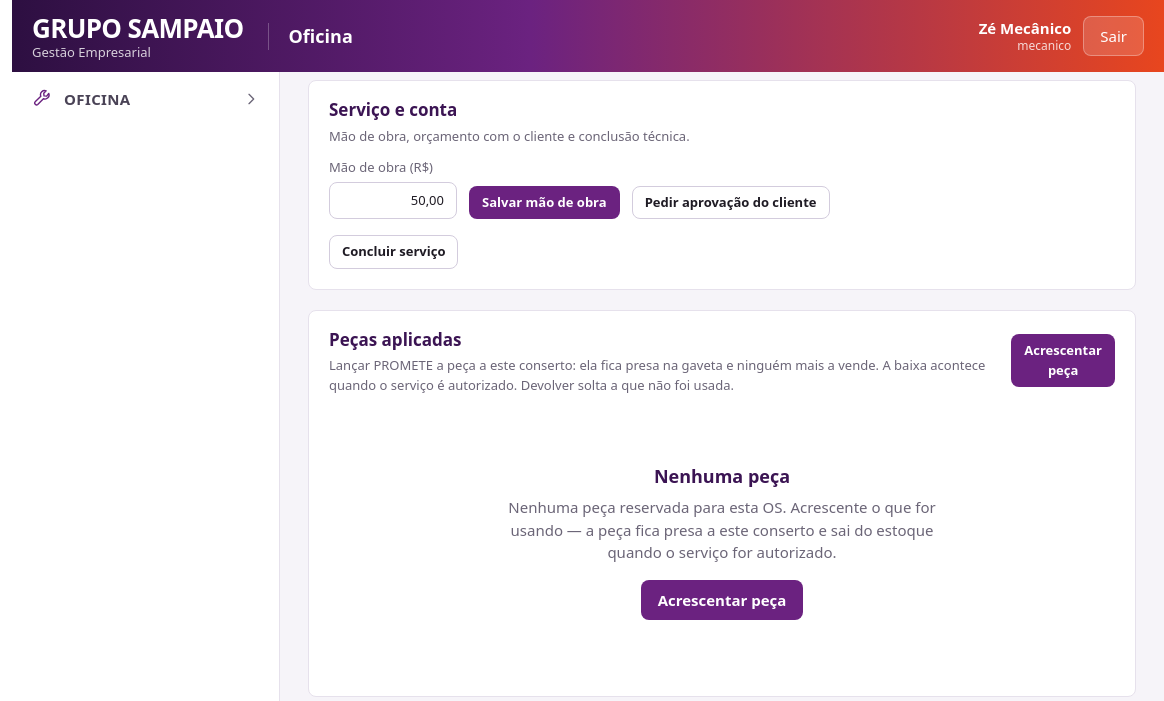
Scenario: acrescentar peça à OS › busca na gaveta DAQUELA bancada, lança, e o estado vazio some
(page scrolled)
Expected: the text "Nenhuma peça" is shown, [654,463,790,490]
Click the button "Acrescentar peça" in the row of "Peças aplicadas". click: click(1063, 361)
box: [1011,334,1115,387]
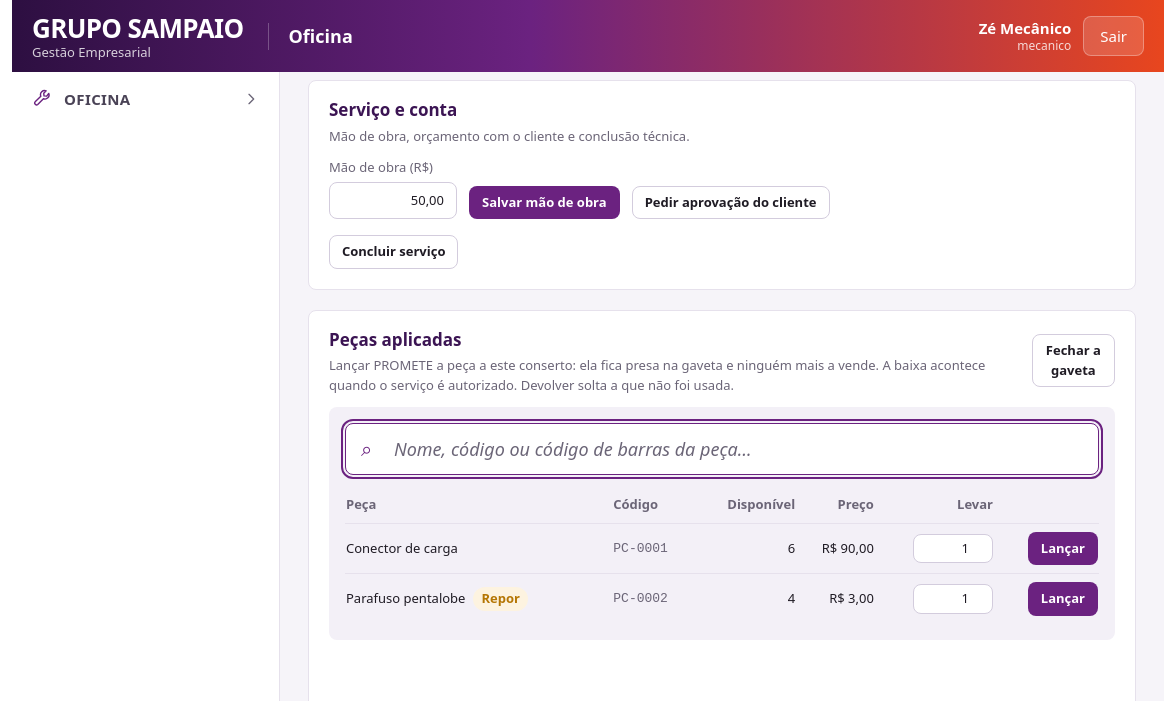
Expected: the text "Conector de carga" is shown, [345,523,612,574]
Replace the text in the number field named "Quantidade de Conector de carga" with "2". click: (953, 548)
box: [913,534,993,563]
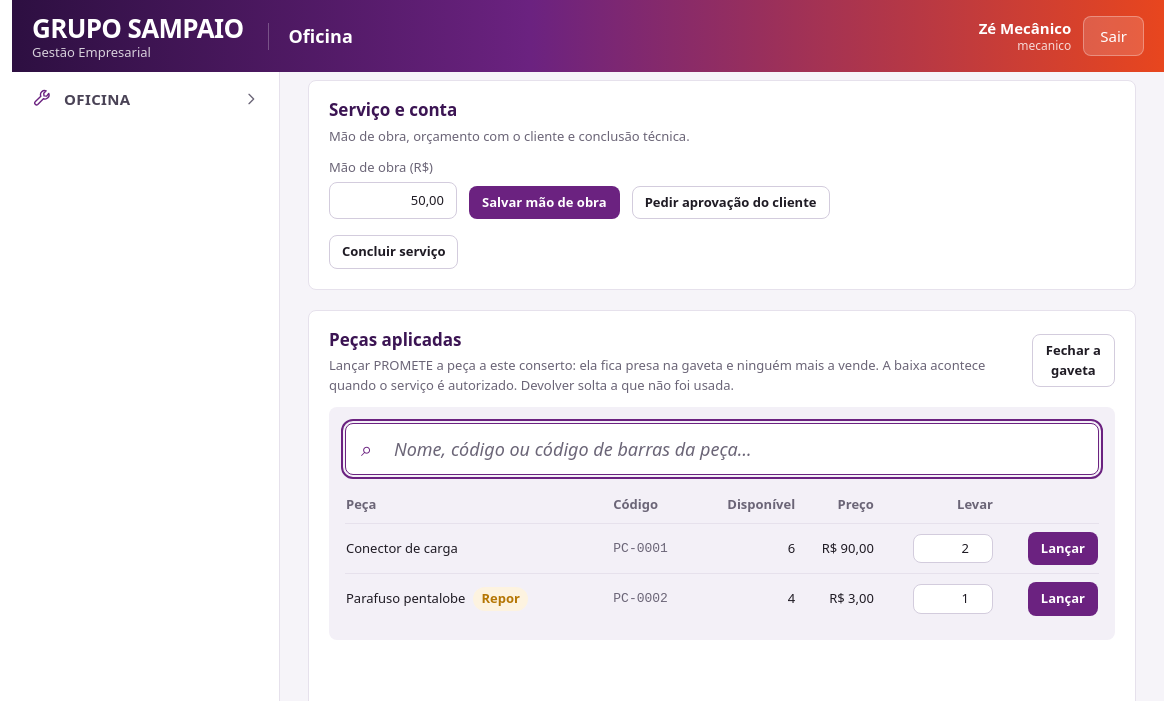
Click the button "Lançar" in the row of "Conector de carga". click: click(1063, 548)
box: [1028,532,1098,565]
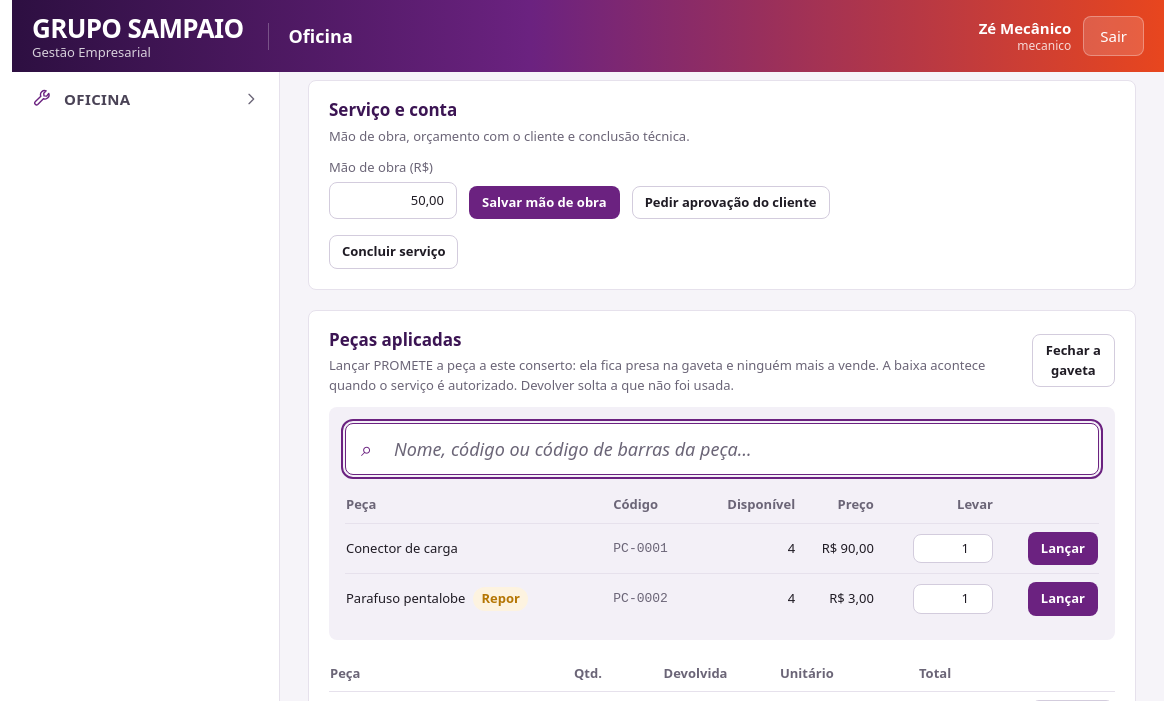
Expected: the text "4" next to "PC-0001" is shown, [788,538,795,556]
